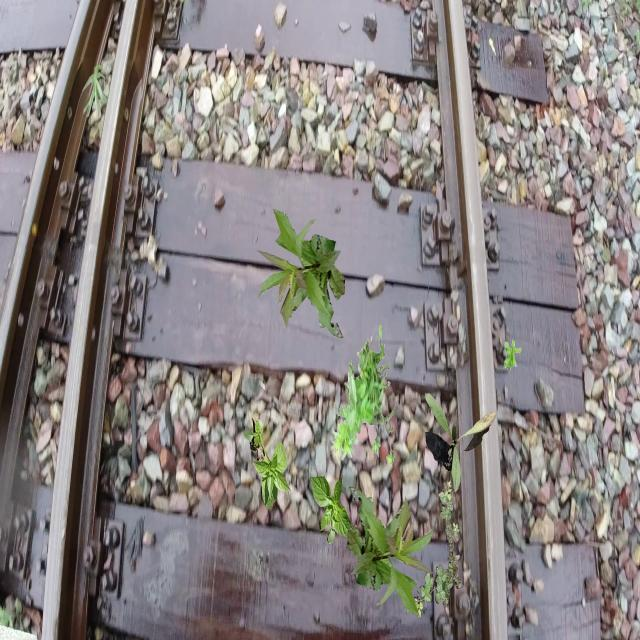Plant: (257, 209, 346, 339), (347, 487, 436, 617), (331, 325, 396, 468), (425, 393, 497, 492), (414, 480, 462, 618), (244, 416, 292, 511), (311, 474, 352, 545), (82, 63, 108, 120), (504, 339, 522, 371)
